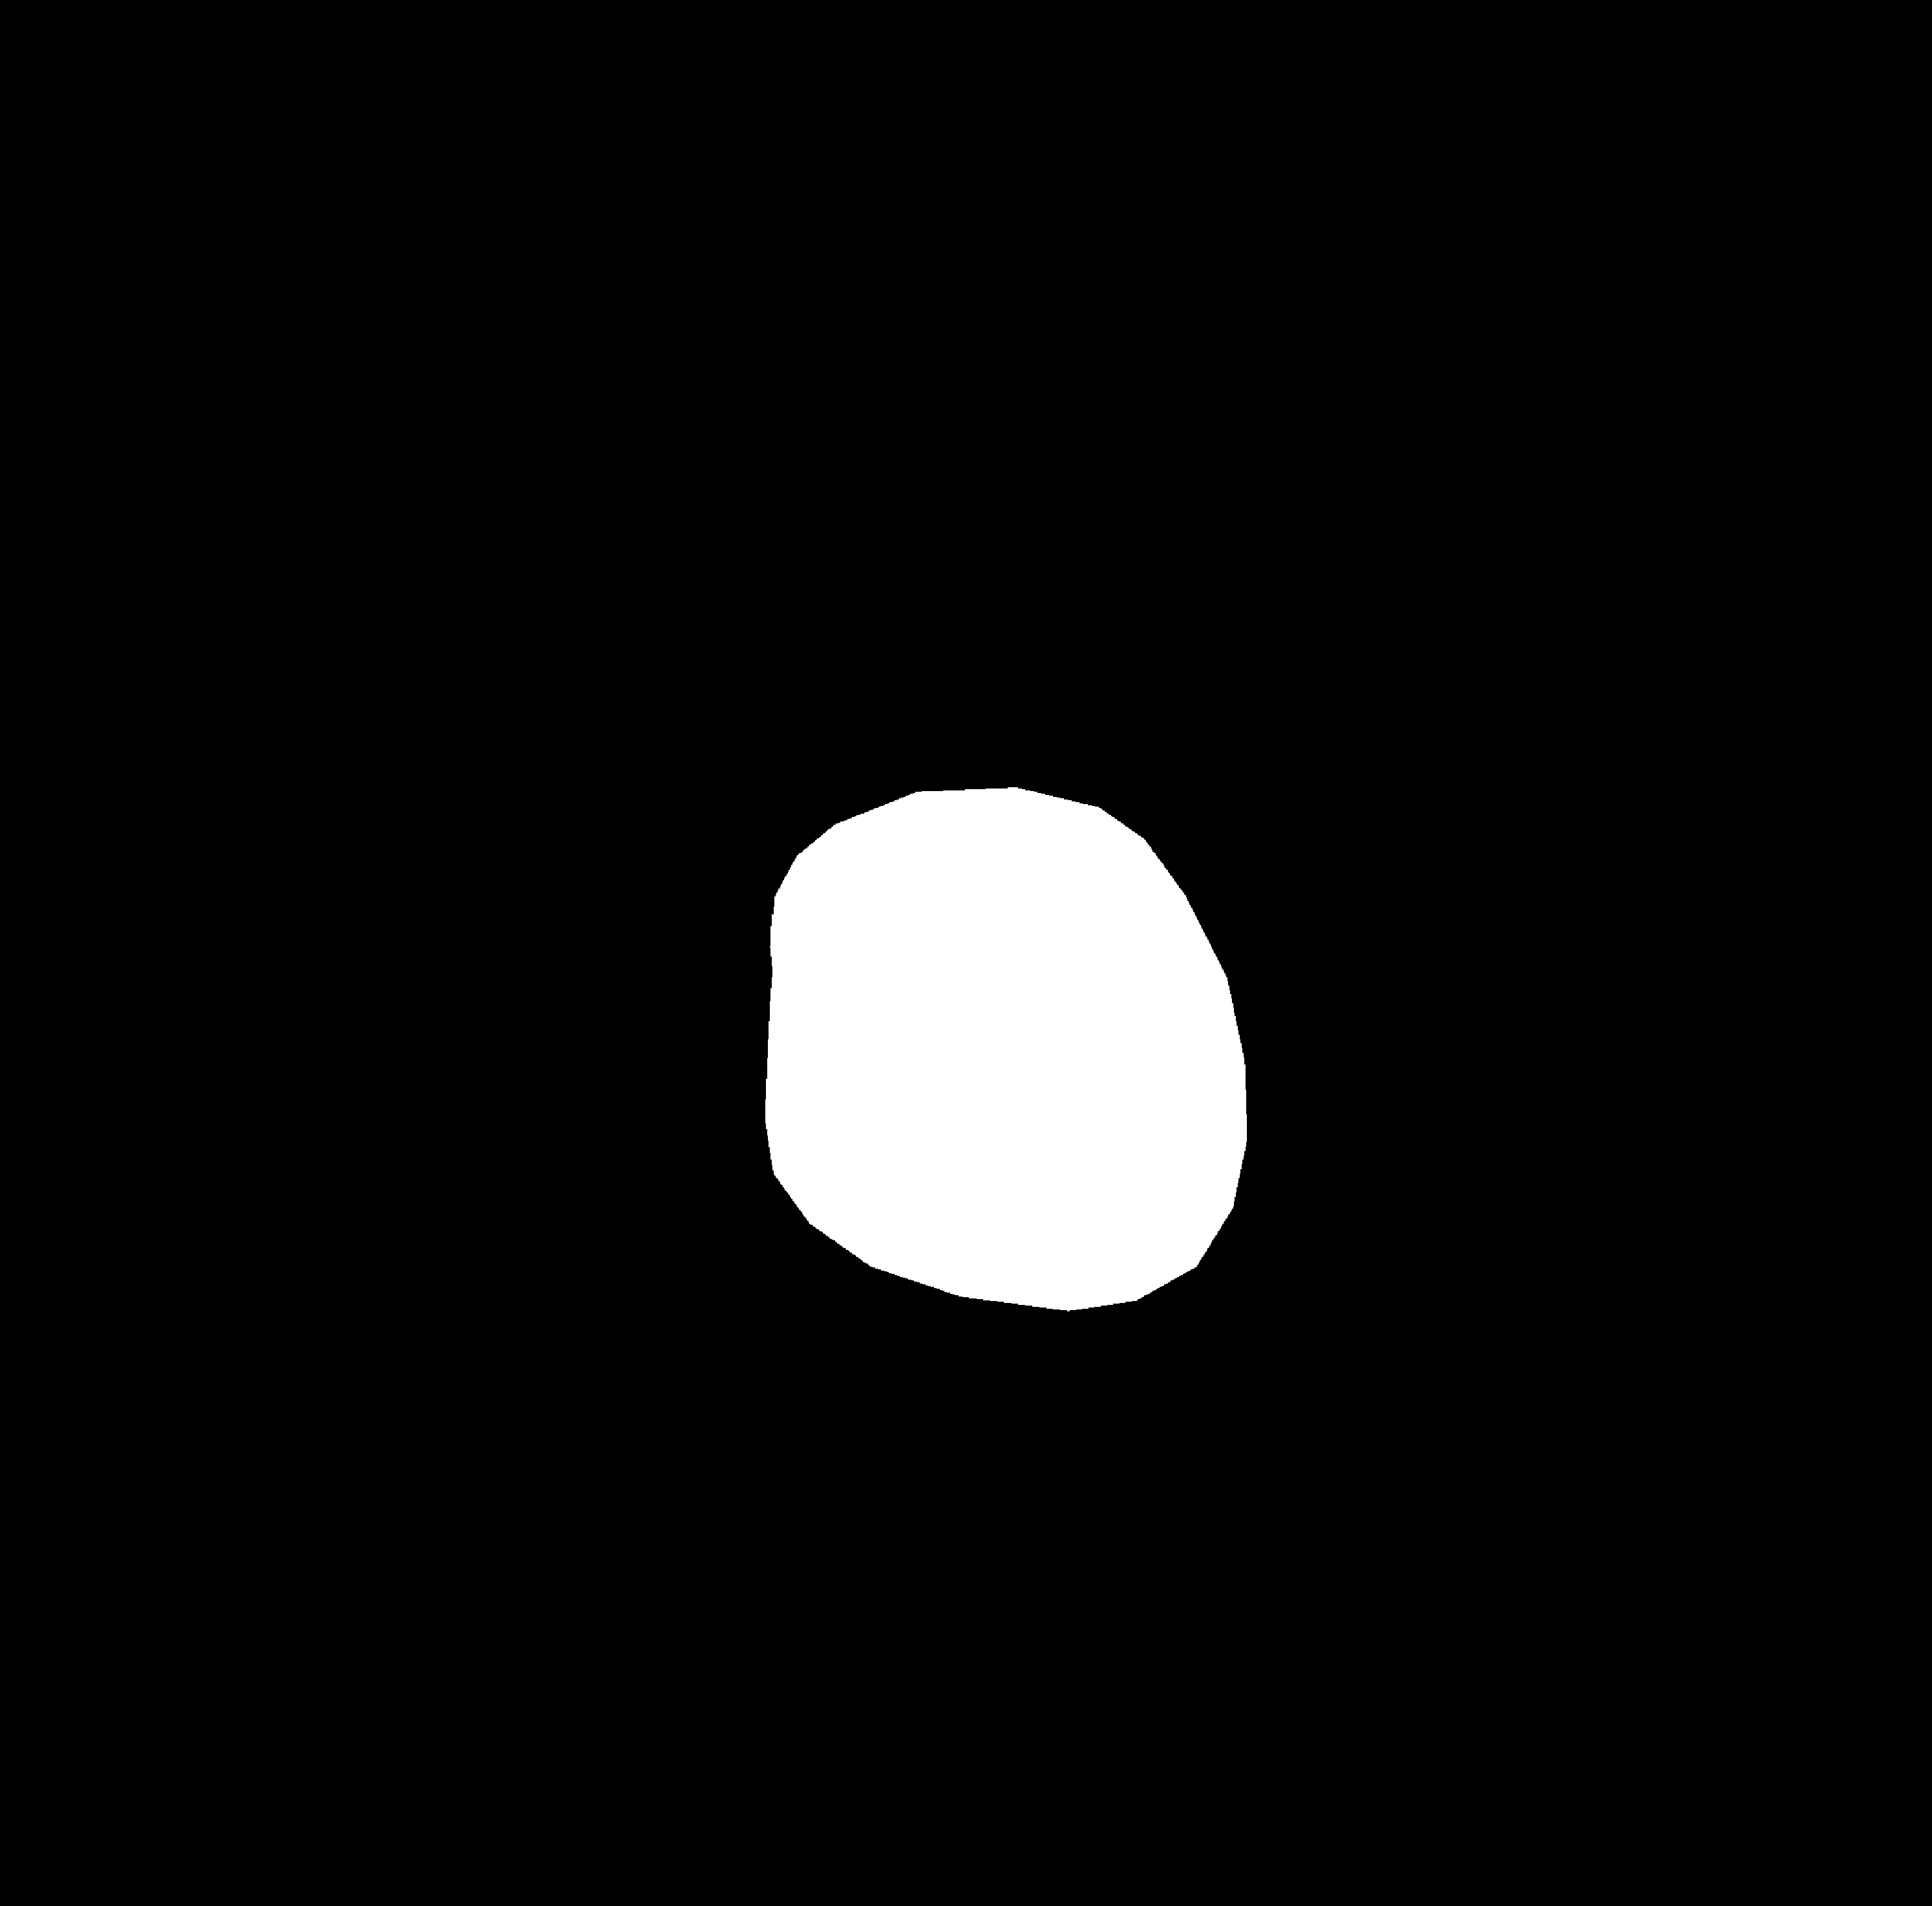heart: (763, 803, 1241, 1313)
left_lung: (407, 241, 915, 1435)
right_lung: (1040, 234, 1609, 1508)
